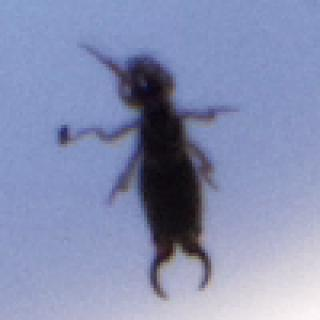earwig: (56, 37, 232, 299)
